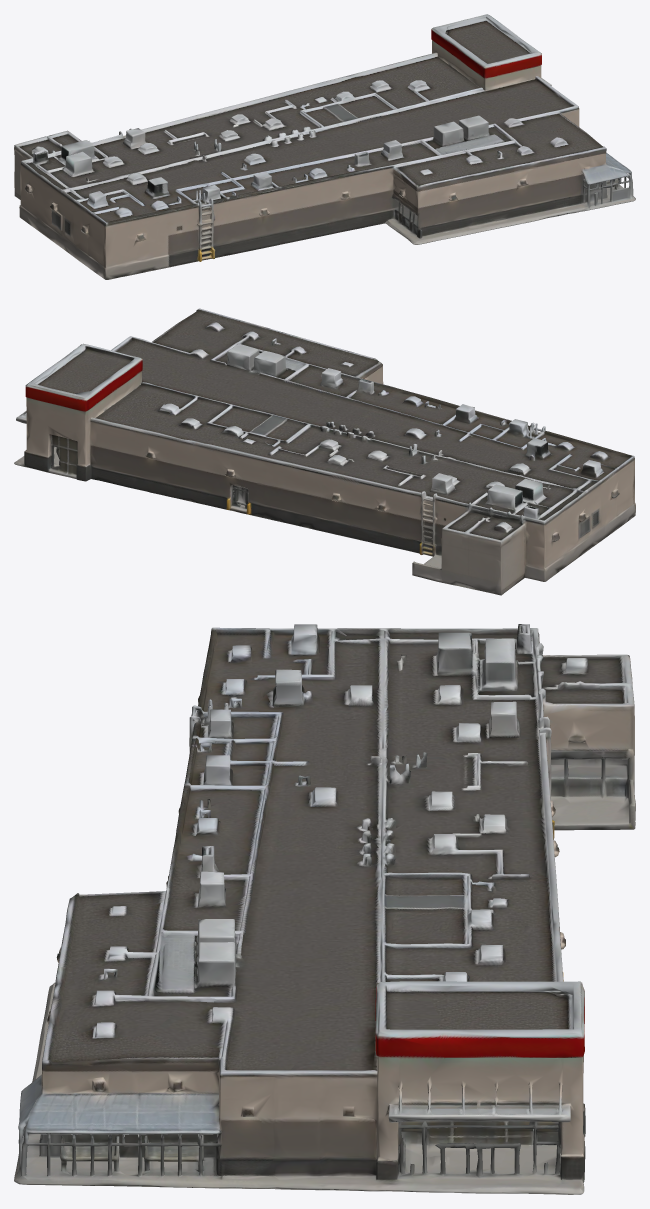
Rendered from superstore.glb.
3 renders of one model, top to bottom at view 1: azimuth 30°, elevation 25°; view 2: azimuth 150°, elevation 25°; view 3: azimuth 270°, elevation 25°, orthographic. The views are drawn at different scales.
Parts seen in each view (by area): view 1: tripo_node_d92e8c29-12f8-44c8-bbb5-585824ef9743; view 2: tripo_node_d92e8c29-12f8-44c8-bbb5-585824ef9743; view 3: tripo_node_d92e8c29-12f8-44c8-bbb5-585824ef9743.
Part boxes in pixels (bbox=[...]): tripo_node_d92e8c29-12f8-44c8-bbb5-585824ef9743: bbox=[14, 14, 635, 279]; tripo_node_d92e8c29-12f8-44c8-bbb5-585824ef9743: bbox=[14, 308, 635, 595]; tripo_node_d92e8c29-12f8-44c8-bbb5-585824ef9743: bbox=[14, 624, 635, 1194].
Size of the model in its own units: 1 by 0.1524 by 0.5671.
Materials: 1 (1 with a texture image).
